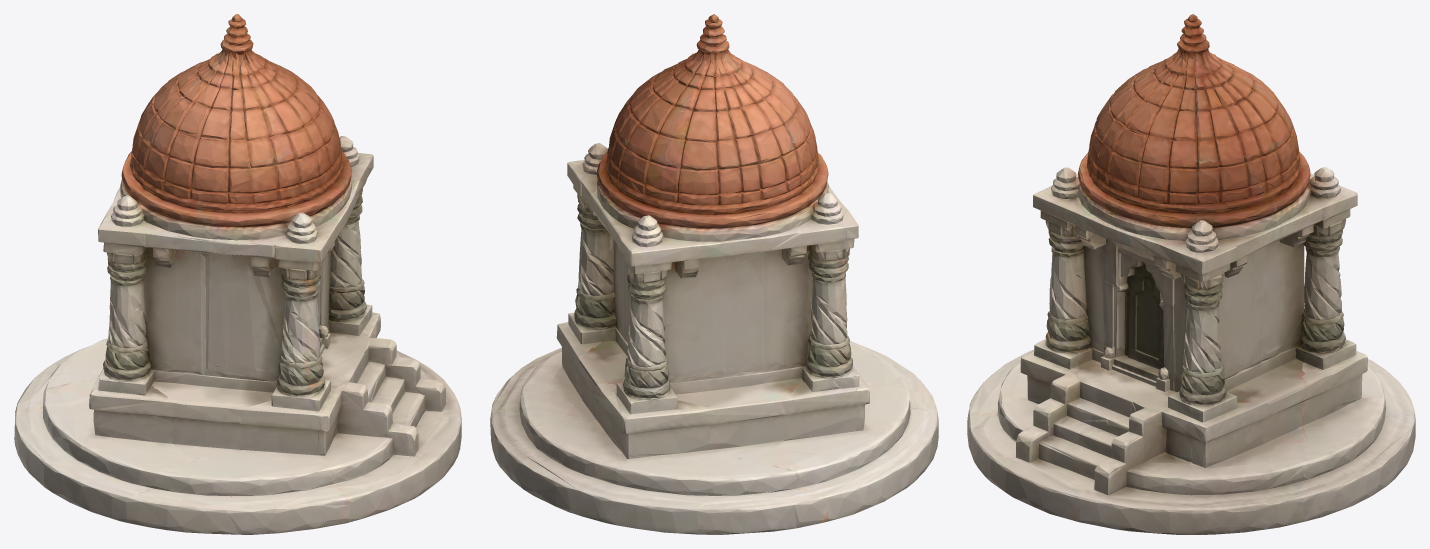
Rendered from palace.glb.
3 renders of one model, left to right at view 1: azimuth 30°, elevation 25°; view 2: azimuth 150°, elevation 25°; view 3: azimuth 270°, elevation 25°, orthographic.
Parts seen in each view (by area): view 1: tmp5ymr9pga.obj; view 2: tmp5ymr9pga.obj; view 3: tmp5ymr9pga.obj.
Part boxes in pixels (x1,y1,x2,y2): tmp5ymr9pga.obj: [14, 14, 461, 534]; tmp5ymr9pga.obj: [490, 14, 938, 534]; tmp5ymr9pga.obj: [967, 14, 1415, 534].
Size of the model in its own units: 1.39 by 1.46 by 1.39.
Materials: 1 (1 with a texture image).
